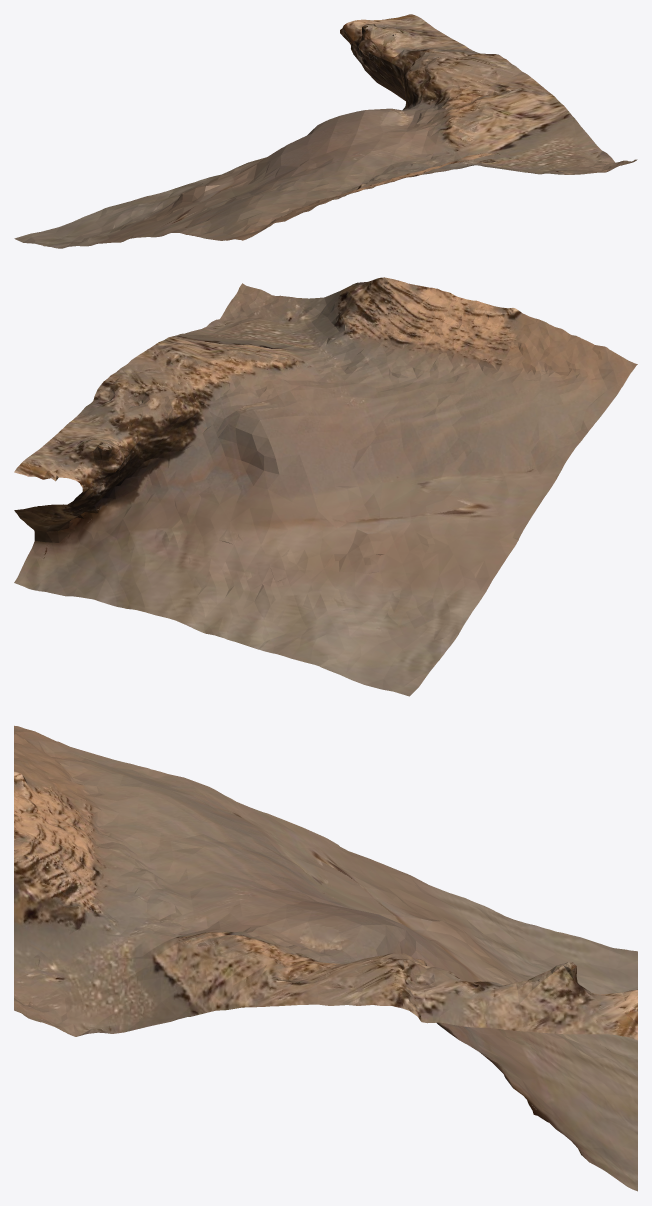
3 views of the same model, one above another, from view 1: azimuth 30°, elevation 25°; view 2: azimuth 150°, elevation 25°; view 3: azimuth 270°, elevation 25° (orthographic). The views are drawn at different scales.
Size of the model in its own units: 1.04 by 0.4839 by 1.04.
3 materials, 3 textured.
